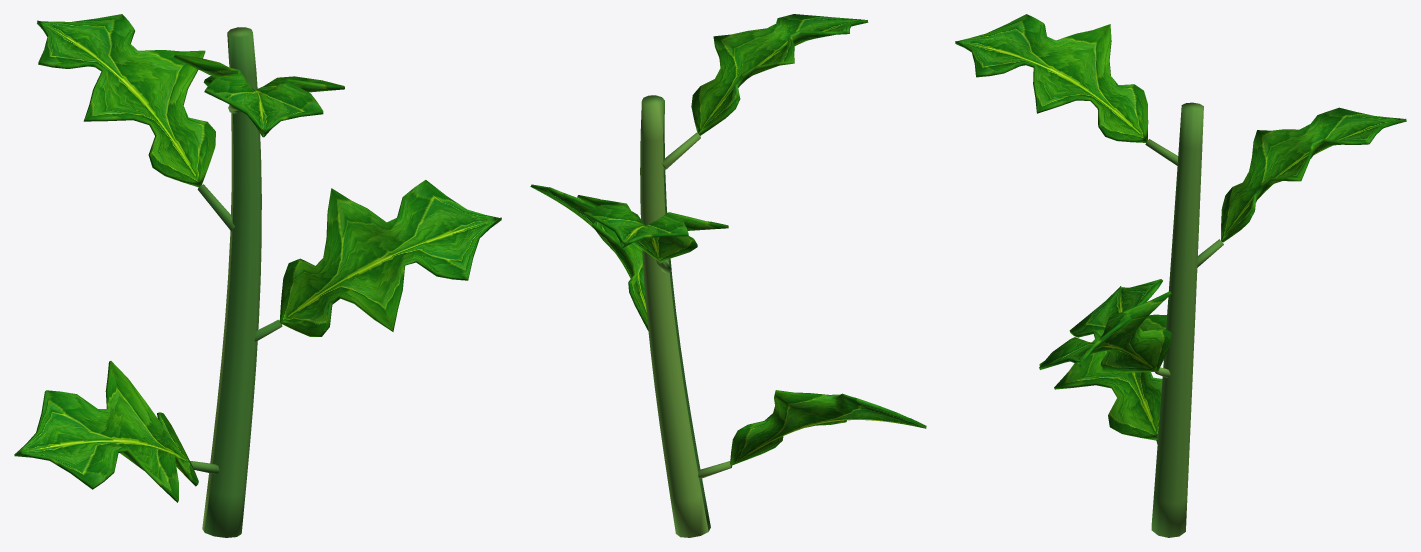
The model's file is NP_Chrysanthemum_Young.fbx.
3 renders of one model, left to right at view 1: azimuth 30°, elevation 25°; view 2: azimuth 150°, elevation 25°; view 3: azimuth 270°, elevation 25°, orthographic. The views are drawn at different scales.
Parts seen in each view (by area): view 1: NP_Chrysanthemum_Young; view 2: NP_Chrysanthemum_Young; view 3: NP_Chrysanthemum_Young.
Part boxes in pixels (<box>): NP_Chrysanthemum_Young: <box>14,14,501,537</box>; NP_Chrysanthemum_Young: <box>530,14,926,537</box>; NP_Chrysanthemum_Young: <box>955,14,1406,537</box>.
Bounding box in the file's own units: 24.2 × 26.23 × 22.59.
